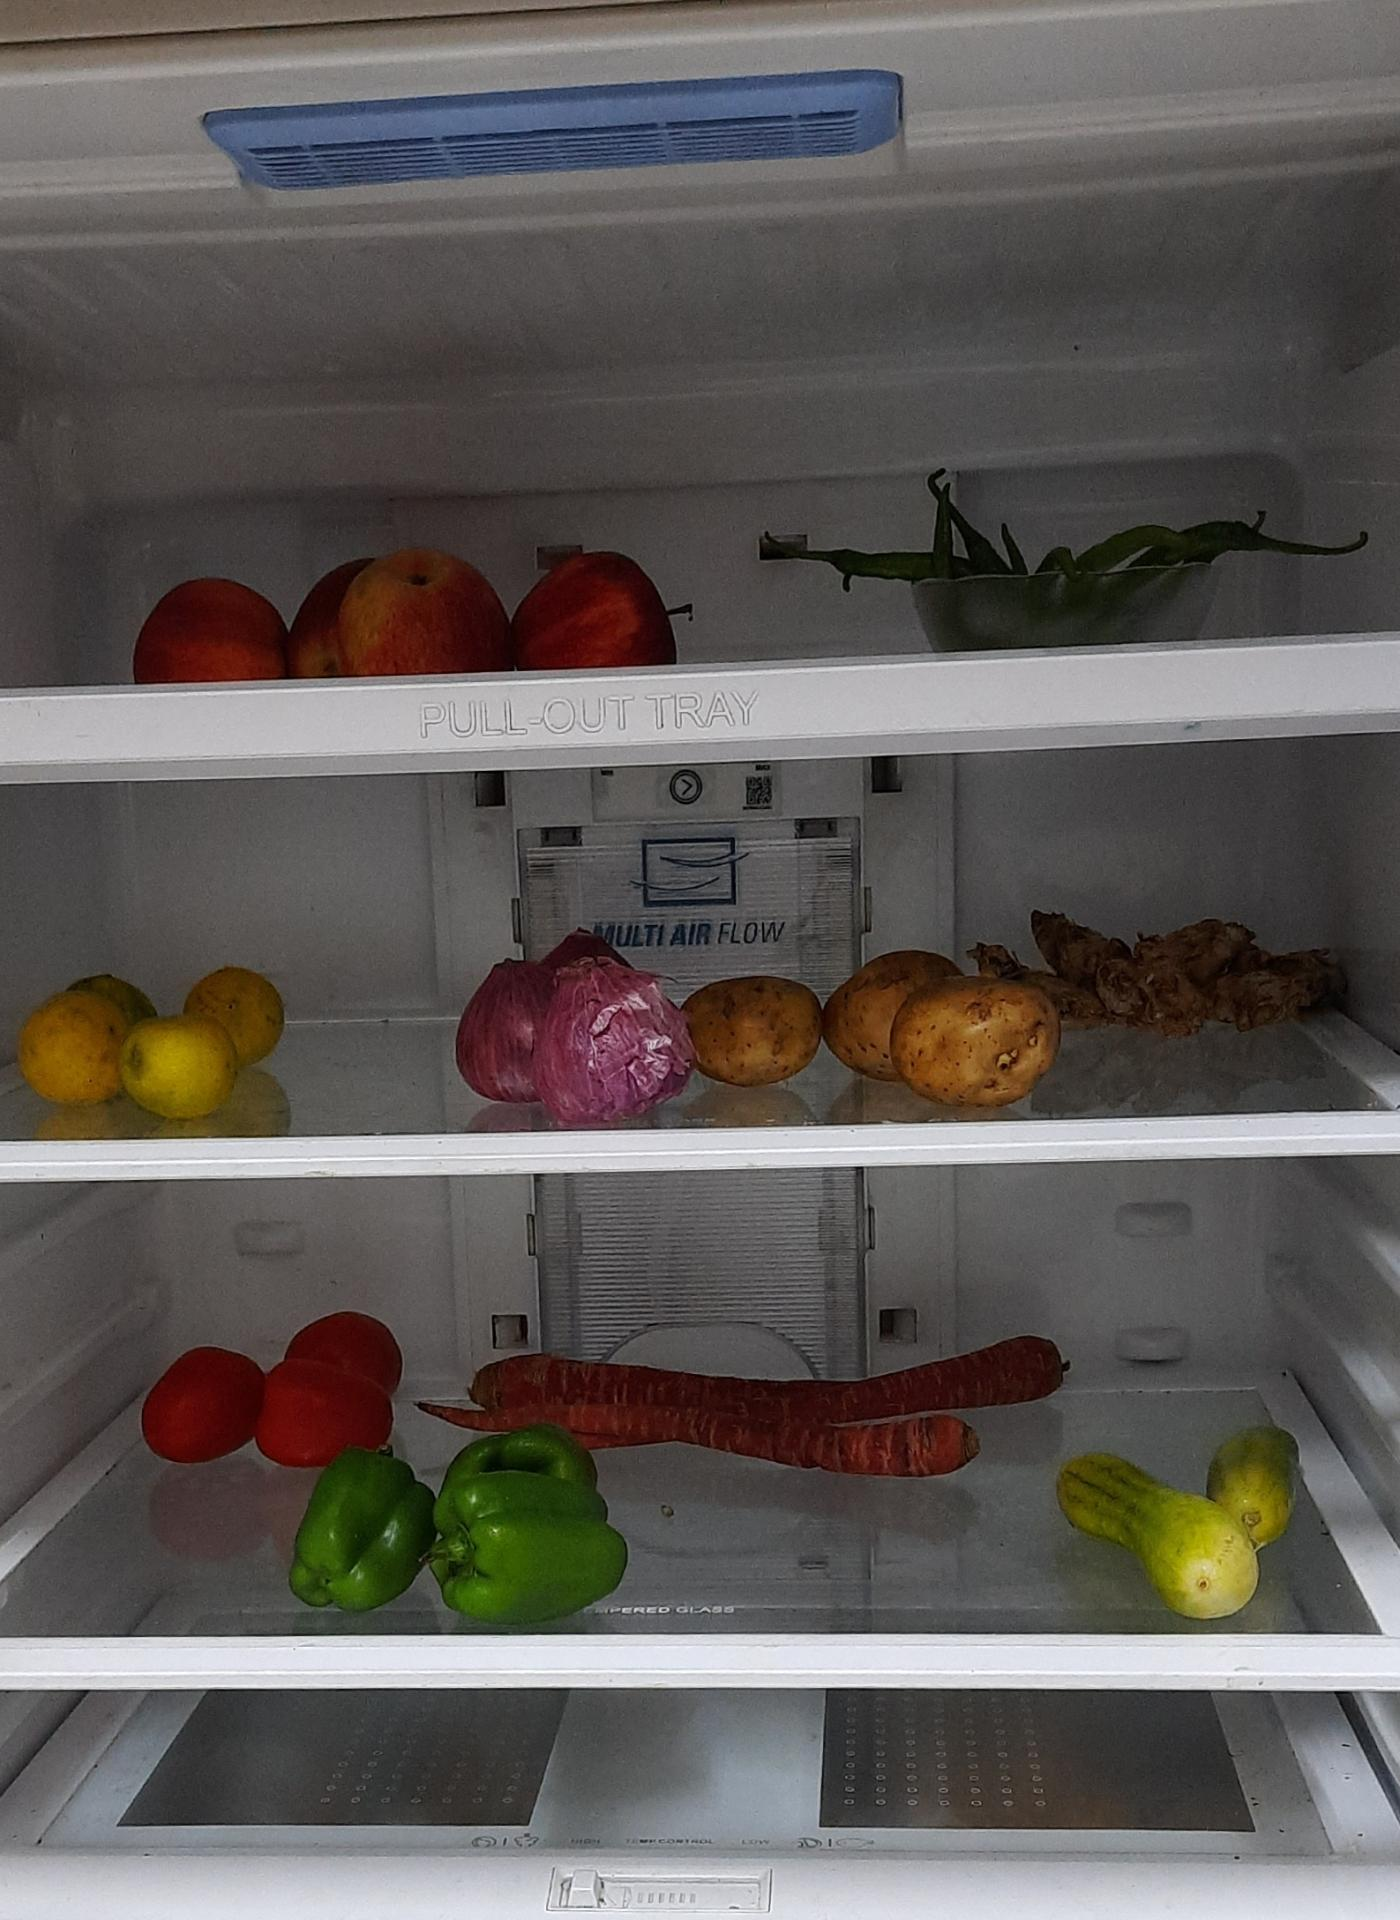apple: (122, 535, 695, 692)
capsicum: (291, 1424, 640, 1622)
carrots: (423, 1348, 1085, 1504)
chillies: (817, 481, 1370, 653)
cucumber: (1048, 1424, 1305, 1617)
ginger: (1035, 905, 1355, 1033)
lemon: (16, 960, 291, 1124)
onion: (455, 920, 705, 1131)
potato: (822, 950, 1059, 1108), (669, 967, 824, 1088)
tomato: (139, 1304, 401, 1470)
